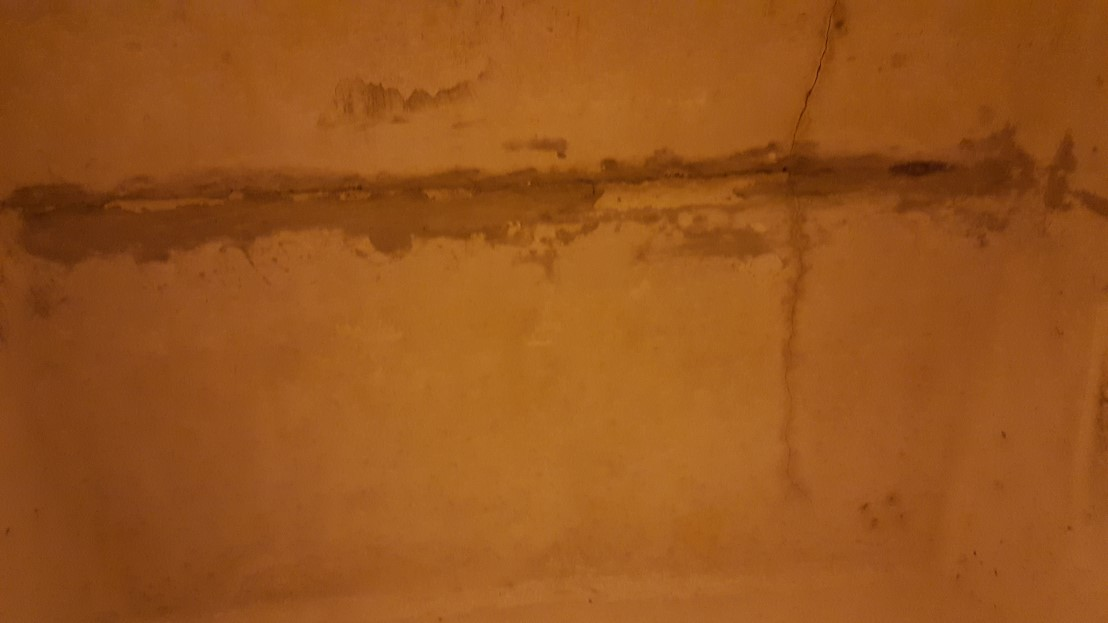Crack: (0, 135, 1108, 231), (768, 146, 854, 531), (768, 0, 849, 177)
